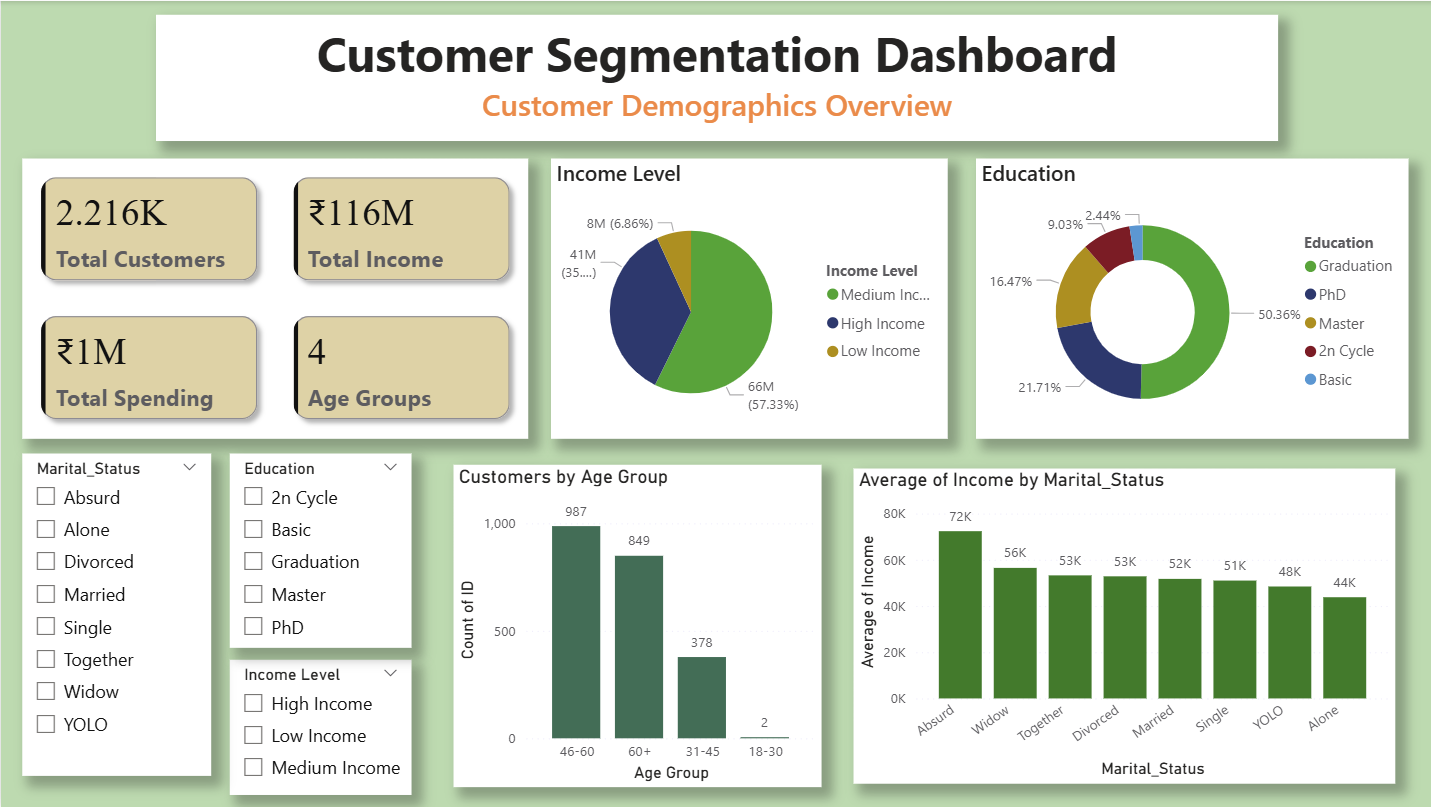

This screenshot's page, from the dashboard's own definition file:
{"tool":"powerbi","page":{"name":"Customer Demographics Overview","canvas":[1280,720],"ordinal":0},"visuals":[{"type":"textbox","box":[138.4,12.8,1002.3,112.8],"z":0},{"type":"cardVisual","fields":{"Data":["Count(marketing_campaign.ID)","marketing_campaign.sum_income","Sum(marketing_campaign.Total Spending)","Count(marketing_campaign.Age Group)"]},"box":[18.6,140.7,452.3,250],"z":1000},{"type":"donutChart","title":"Education","fields":{"Category":["marketing_campaign.Education"],"Y":["CountNonNull(marketing_campaign.ID)"]},"box":[870.9,140.7,386,250],"z":2000},{"type":"clusteredColumnChart","title":"Customers by Age Group","fields":{"Category":["marketing_campaign.Age Group"],"Y":["CountNonNull(marketing_campaign.ID)"]},"box":[404.7,414,329.1,288.4],"z":3000},{"type":"columnChart","fields":{"Category":["marketing_campaign.Marital_Status"],"Y":["Avg(marketing_campaign.Income)"]},"box":[761.6,417.4,483.7,281.4],"z":4000},{"type":"pieChart","title":"Income Level","fields":{"Y":["Sum(marketing_campaign.Income)"],"Category":["marketing_campaign.Income Level"]},"box":[491.9,140.7,354.7,250],"z":5000},{"type":"slicer","fields":{"Values":["marketing_campaign.Income Level"]},"box":[204.7,588.4,162.8,120.9],"z":6000},{"type":"slicer","fields":{"Values":["marketing_campaign.Marital_Status"]},"box":[18.6,404.7,168.6,288.4],"z":7000},{"type":"slicer","fields":{"Values":["marketing_campaign.Education"]},"box":[204.7,404.7,162.8,173.3],"z":8000}]}

Visuals, with their boxes in screenshot pixels (x1, y1, x2, y2), scaled from the page's 1280x720 canvas onto the 1431x807 screenshot:
textbox: 155/14/1275/141
cardVisual - Count(marketing_campaign.ID) x marketing_campaign.sum_income: 21/158/526/438
"Education" donutChart: 974/158/1405/438
"Customers by Age Group" clusteredColumnChart: 452/464/820/787
columnChart - marketing_campaign.Marital_Status x Avg(marketing_campaign.Income): 851/468/1392/783
"Income Level" pieChart: 550/158/946/438
slicer - marketing_campaign.Income Level: 229/659/411/795
slicer - marketing_campaign.Marital_Status: 21/454/209/777
slicer - marketing_campaign.Education: 229/454/411/648
